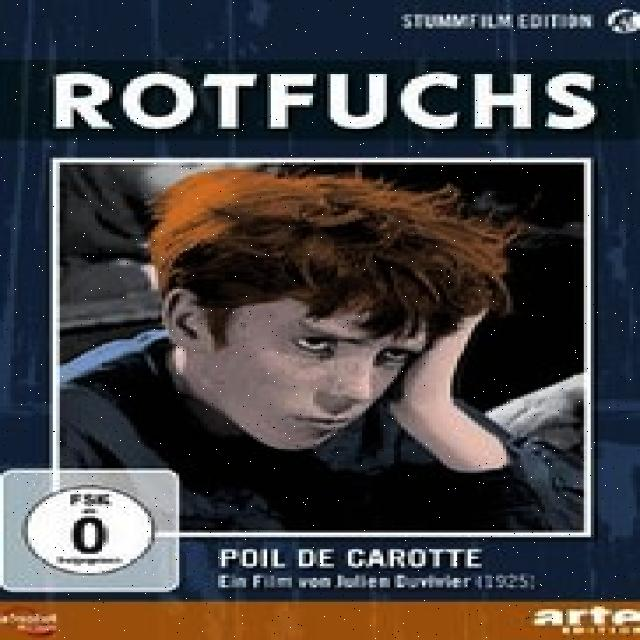movie-judul: (52, 60, 604, 140)
picture: (71, 160, 580, 534)
